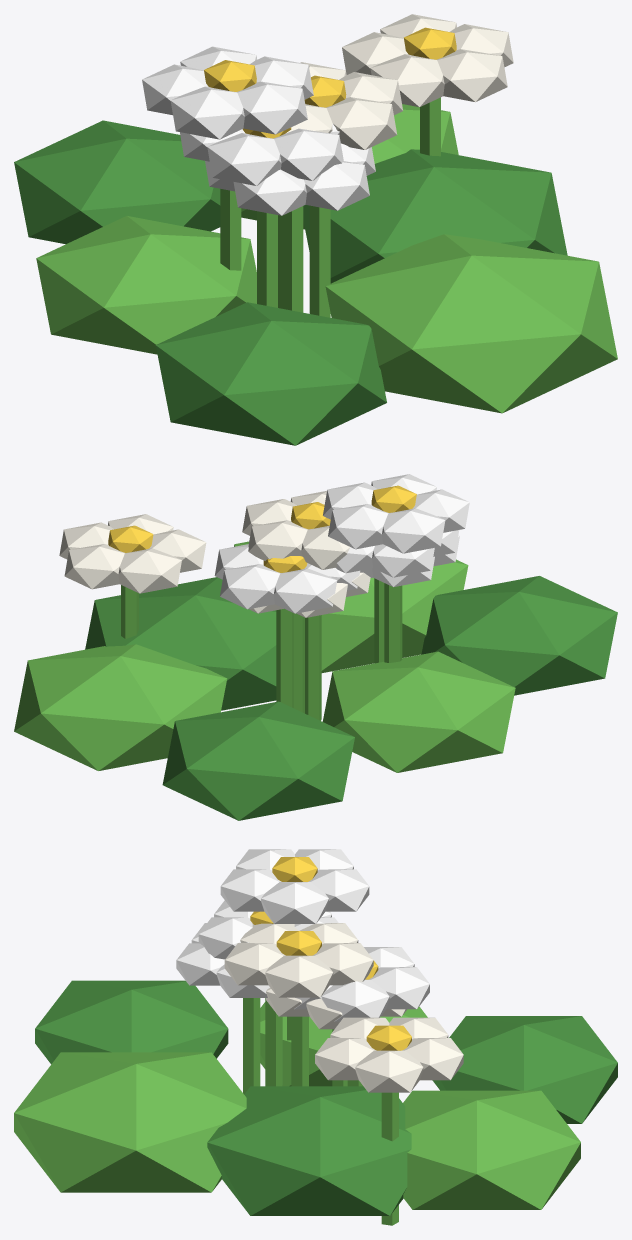
Rendered from daisies.glb.
3 views of the same model, one above another, from view 1: azimuth 30°, elevation 25°; view 2: azimuth 150°, elevation 25°; view 3: azimuth 270°, elevation 25° (orthographic). The views are drawn at different scales.
Parts seen in each view (by area): view 1: daisies; view 2: daisies; view 3: daisies.
Boxes of the visible parts, left/top/right/bottom form: daisies: left=14, top=14, right=617, bottom=445; daisies: left=14, top=474, right=617, bottom=820; daisies: left=14, top=849, right=617, bottom=1225.
Bounding box in the file's own units: 0.4066 × 0.2366 × 0.498.
